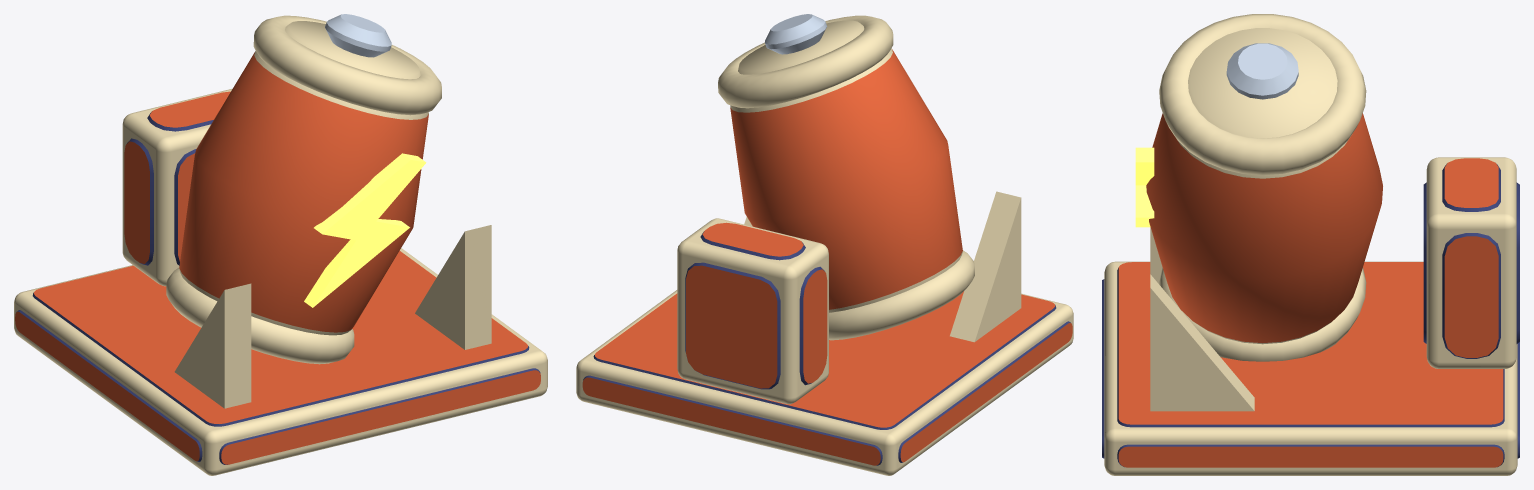
File: R4X_Battery.fbx
3 views of the same model, side by side, from view 1: azimuth 30°, elevation 25°; view 2: azimuth 150°, elevation 25°; view 3: azimuth 270°, elevation 25° (orthographic). The views are drawn at different scales.
Visible parts, largest first — view 1: R4X_Battery_Body; view 2: R4X_Battery_Body; view 3: R4X_Battery_Body.
Part boxes in pixels (x1,y1,x2,y2): R4X_Battery_Body: [14, 14, 547, 475]; R4X_Battery_Body: [576, 14, 1073, 475]; R4X_Battery_Body: [1102, 14, 1519, 475].
Bounding box in the file's own units: 0.52 × 0.5093 × 0.52.
